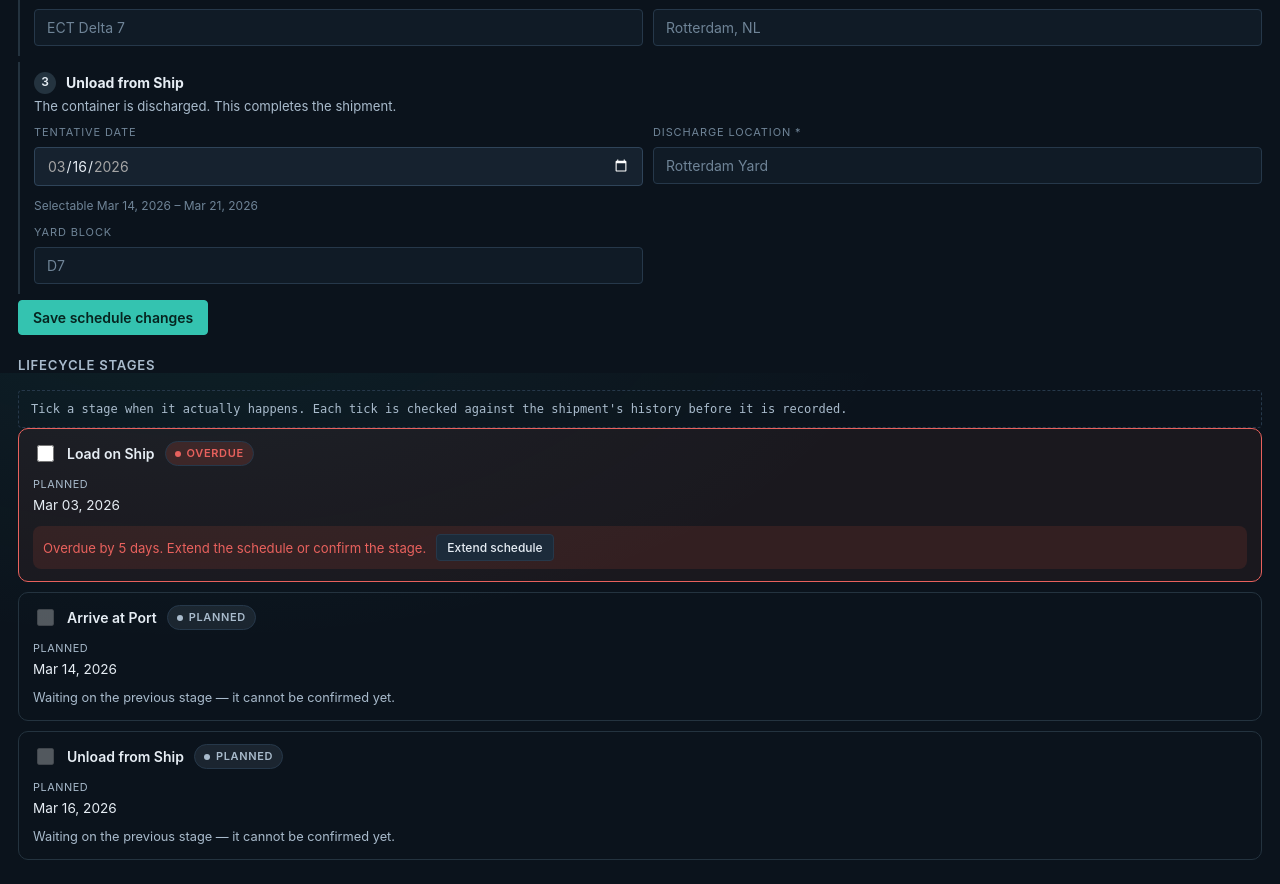
Test case: lifecycle planner › a zero or negative extension is refused before it is sent
(page scrolled)
Click the button "Extend schedule": {"x": 495, "y": 548} [436, 534, 554, 561]
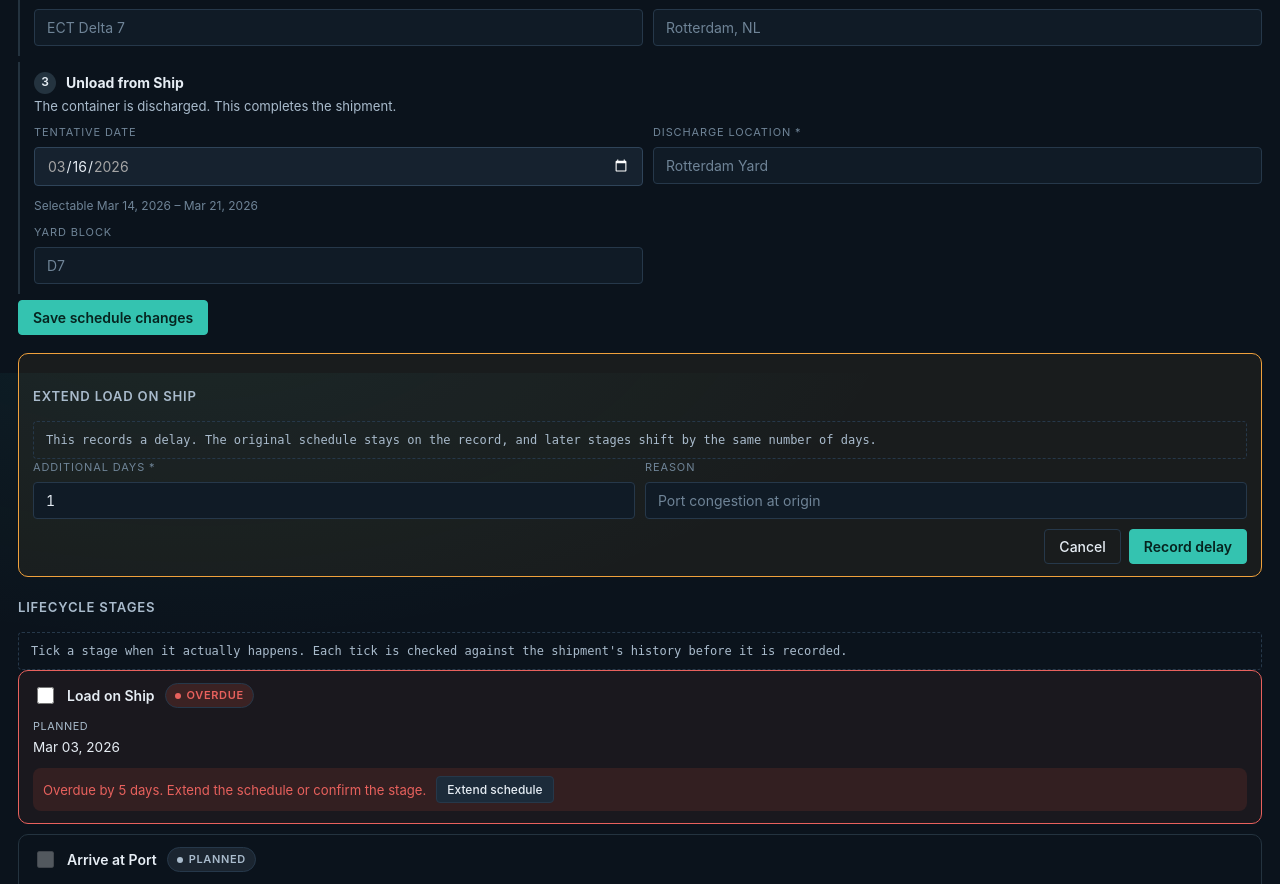
Replace the text in the number field labelled "Additional days *" with "0": {"x": 334, "y": 501} [33, 482, 635, 519]
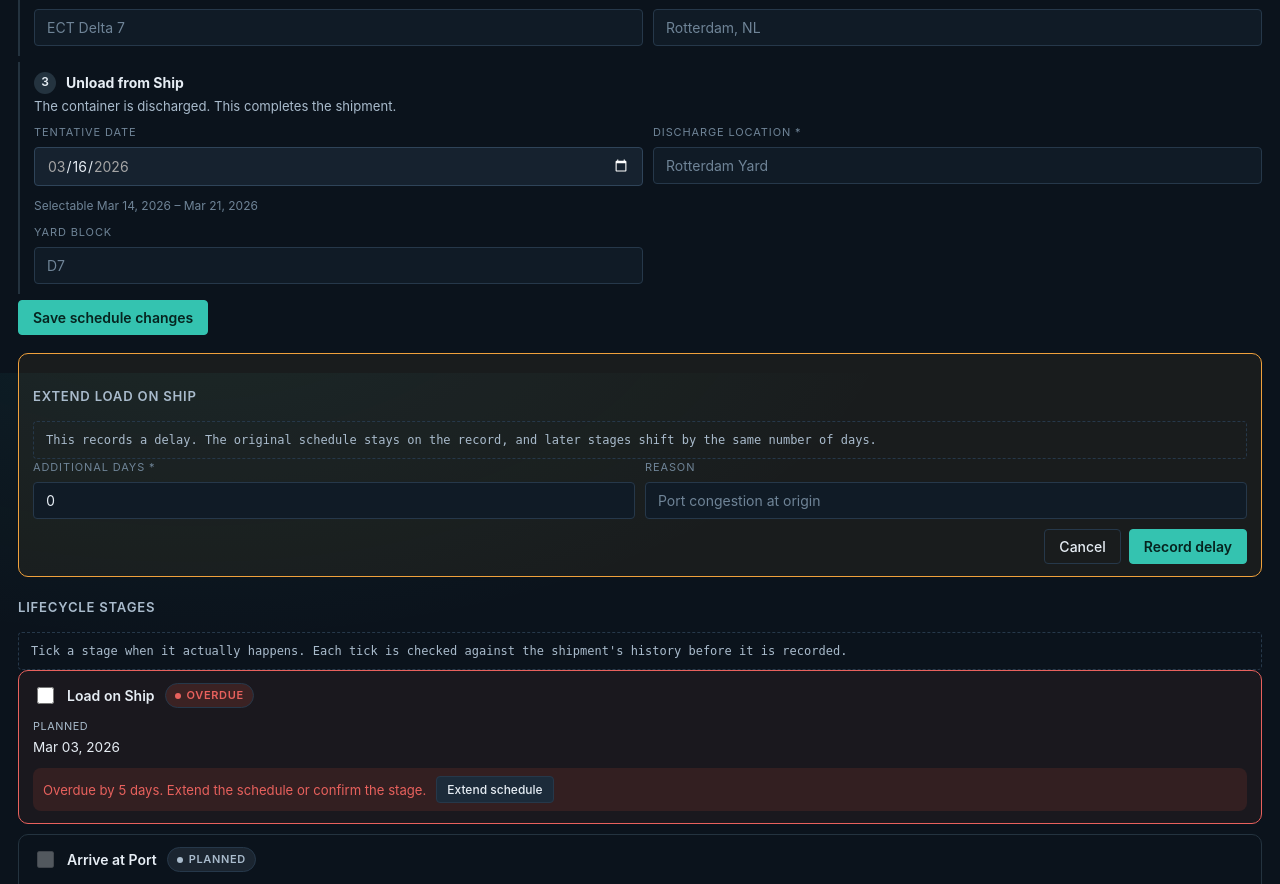
Click the button "Record delay": {"x": 1188, "y": 547} [1129, 529, 1247, 564]
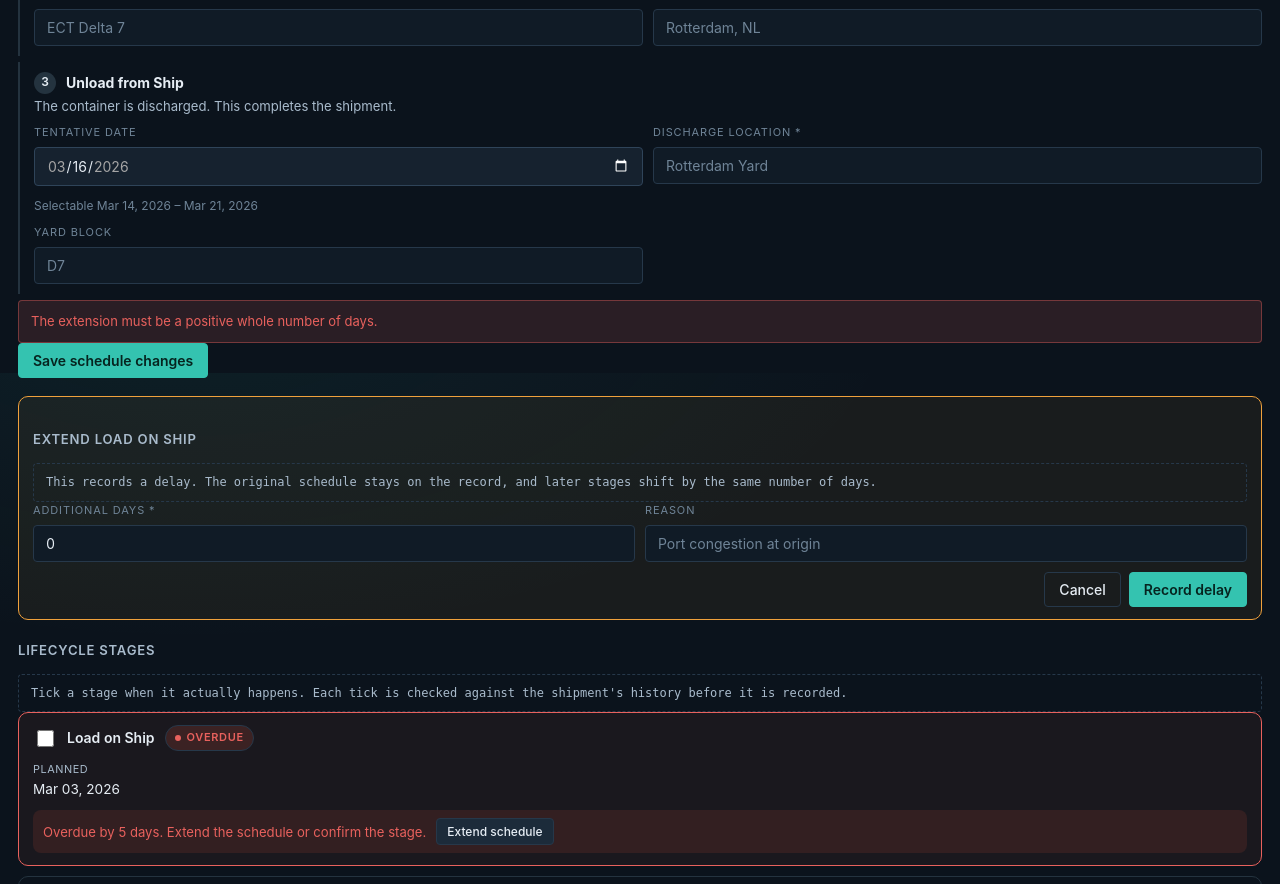
expect the text "The extension must be a positive whole number of days." is shown: met, box [18, 300, 1262, 342]
